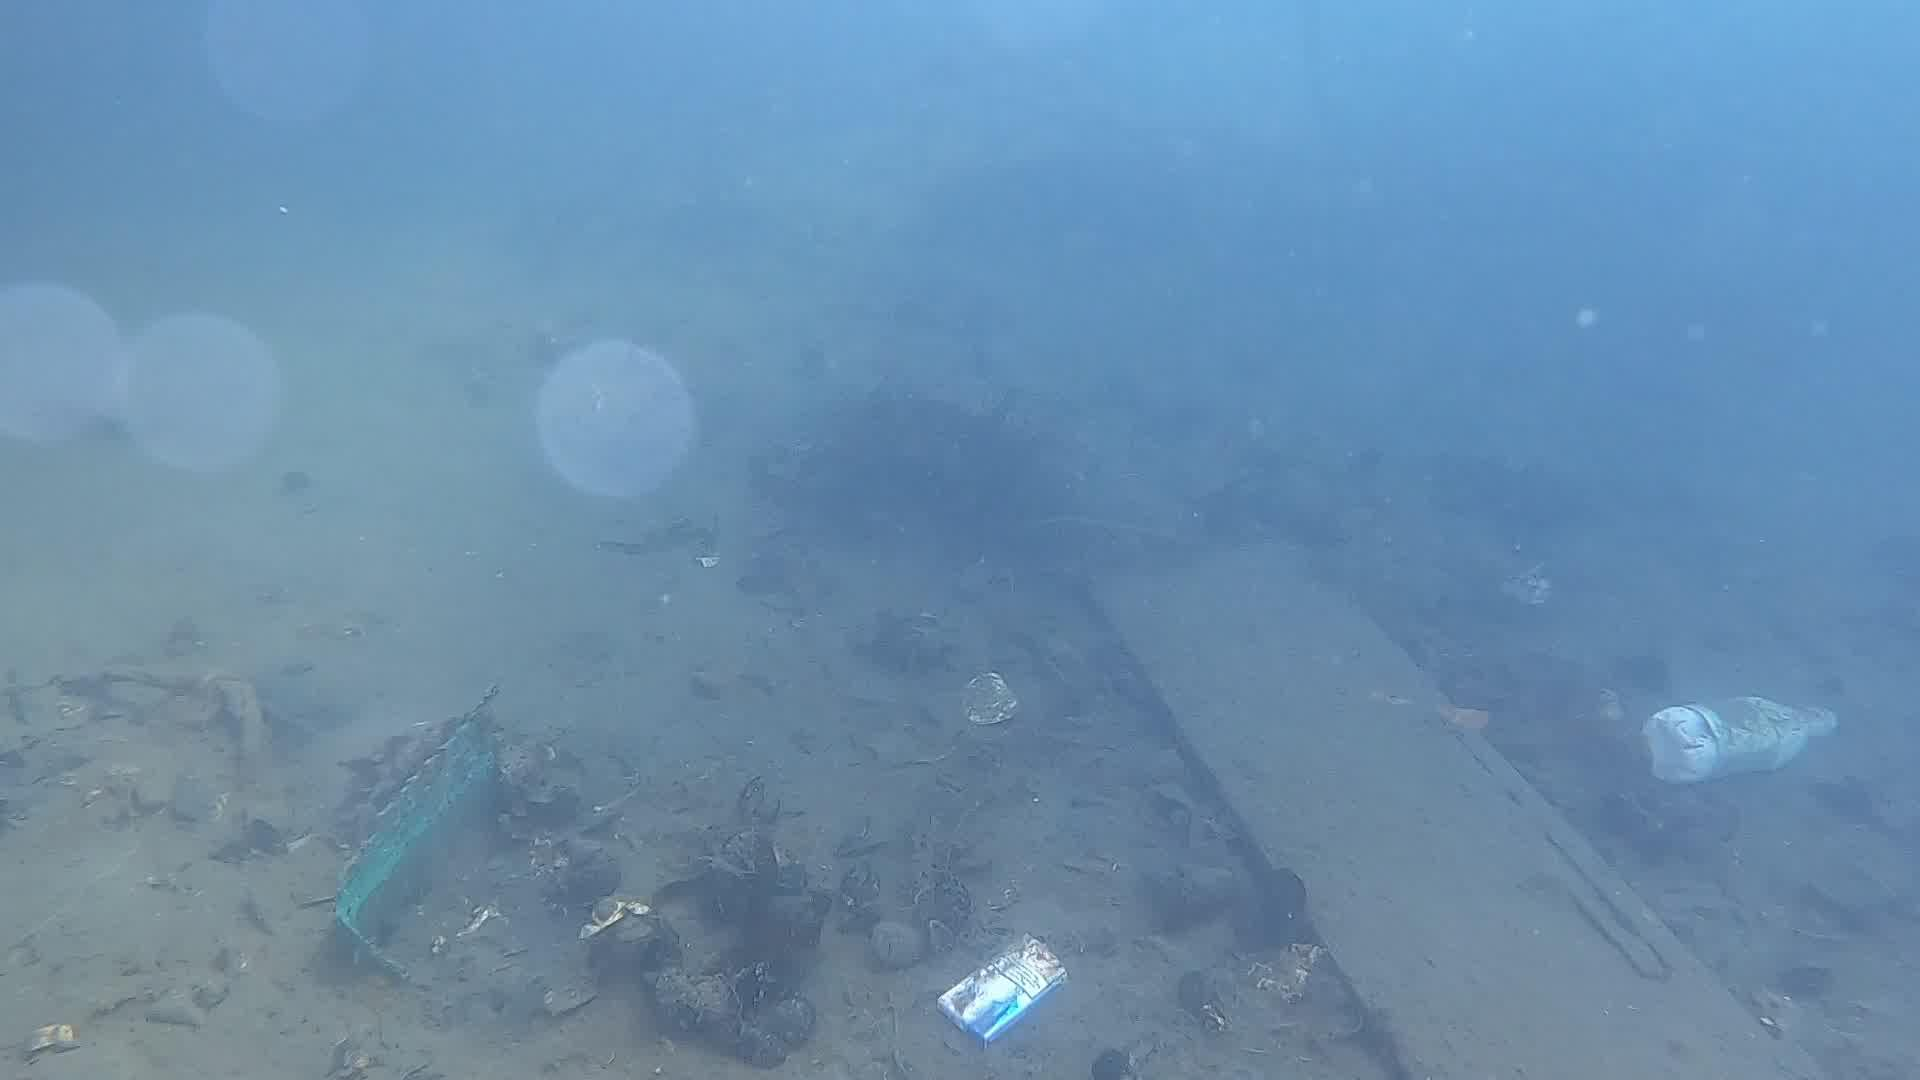wood: (1076, 537, 1803, 1077)
